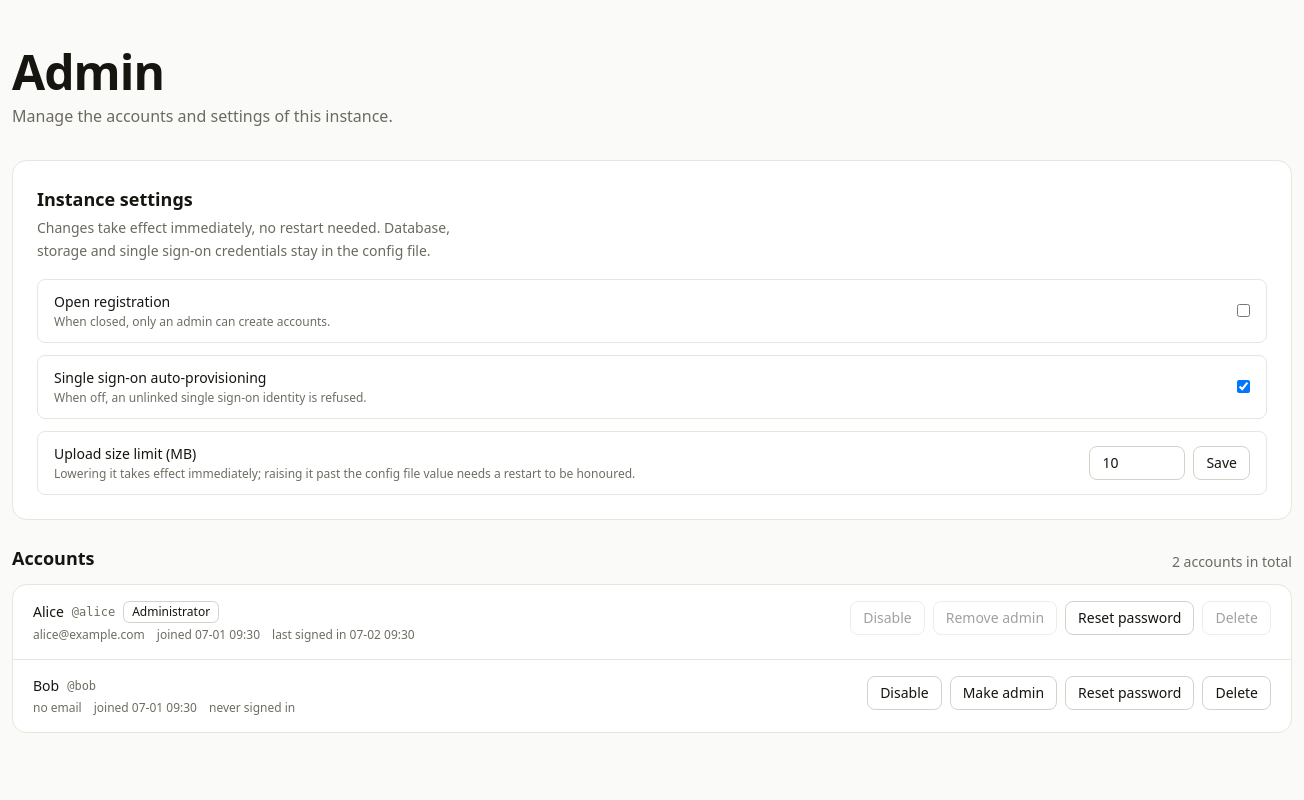
Test case: AdminPage › a too-short password is refused before the request
The image size is (1304, 800).
Expected: the text "@bob" is shown, [67, 678, 96, 694]
Click the button "Reset password" in the row of "never signed in" at {"x": 1130, "y": 692}, box [1065, 676, 1194, 710]
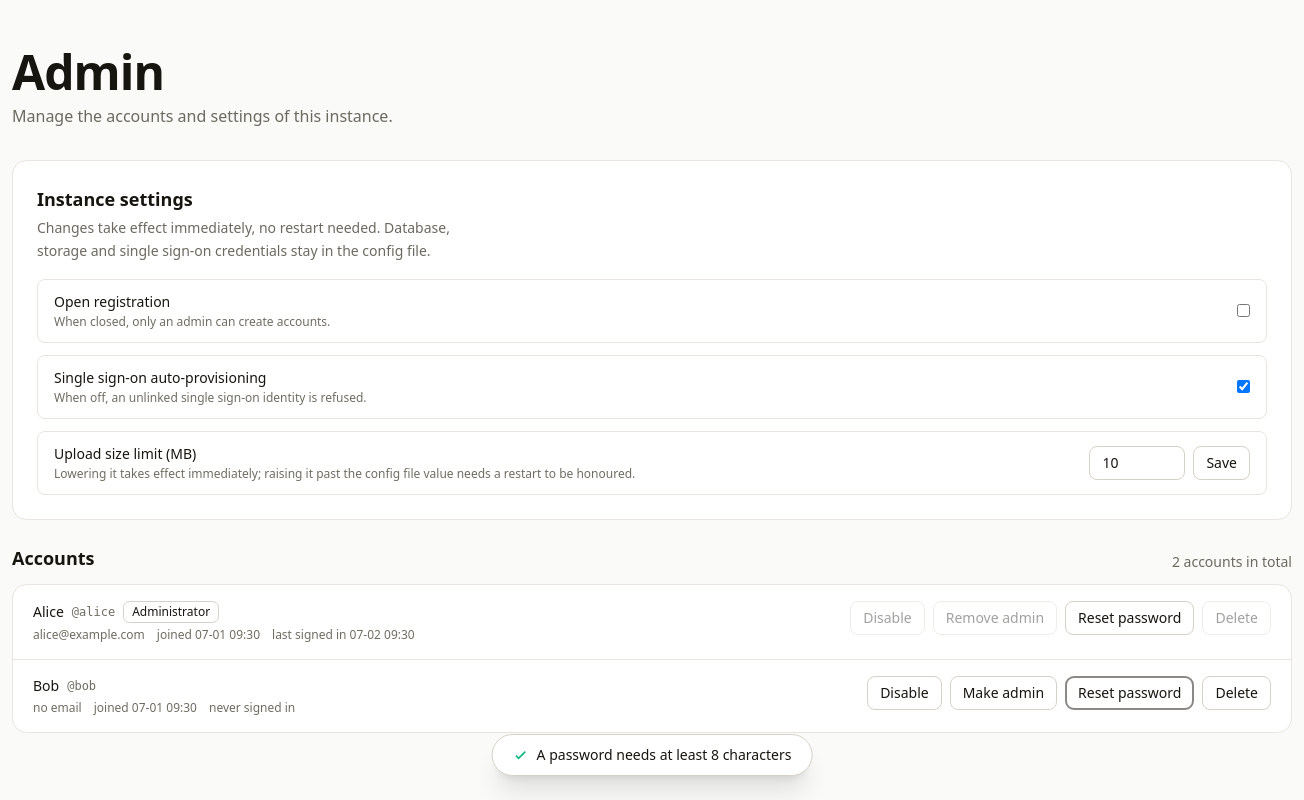
Result: the text "A password needs at least 8 characters" is shown at [537, 745, 791, 765]
